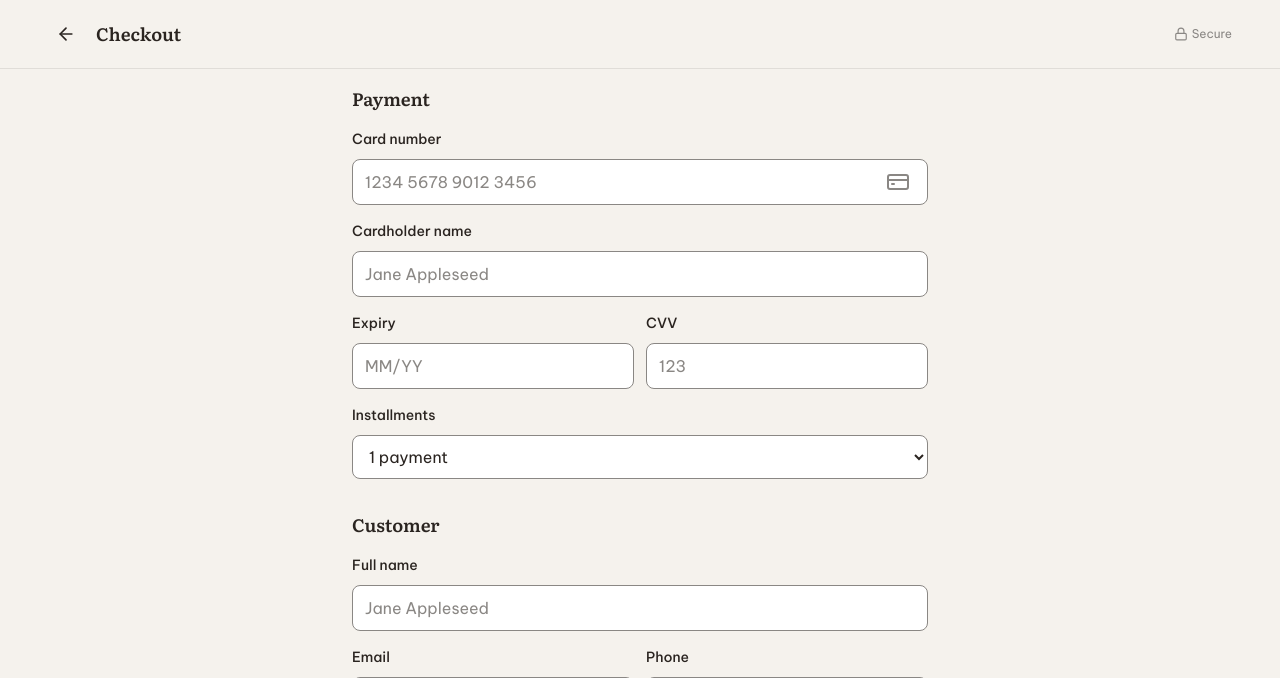
Test case: App › returns to the catalog when the checkout back button is clicked
This screenshot has width=1280, height=678.
Click the button named "back to catalog".
click(66, 34)  # box [48, 16, 84, 52]
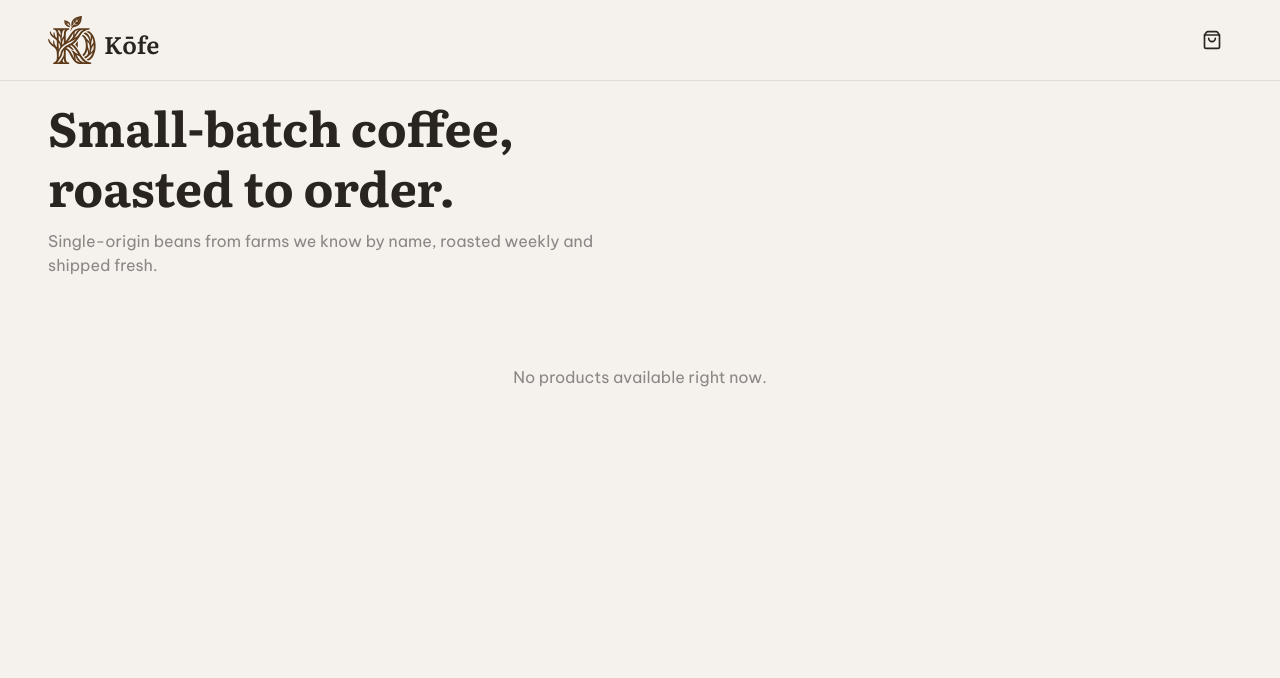
Now the text "No products available right now." is shown, box [513, 367, 767, 387]
